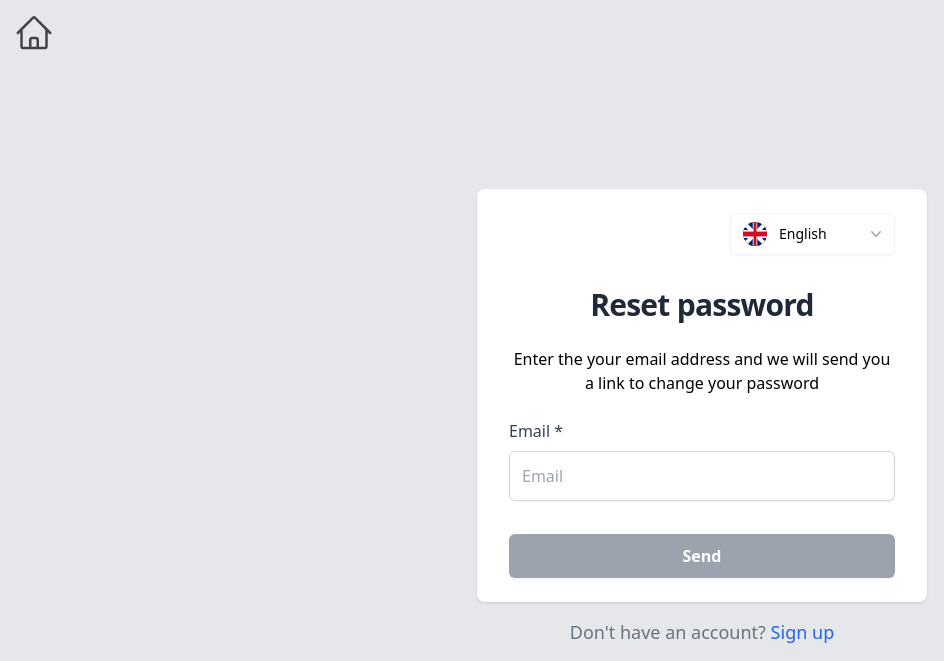
Test: Request password reset page › Should change language after select different language from the language selector
Step 1. Click the button with test id "language-selector" → coordinates (813, 234), box x1=730 y1=213 x2=895 y2=255
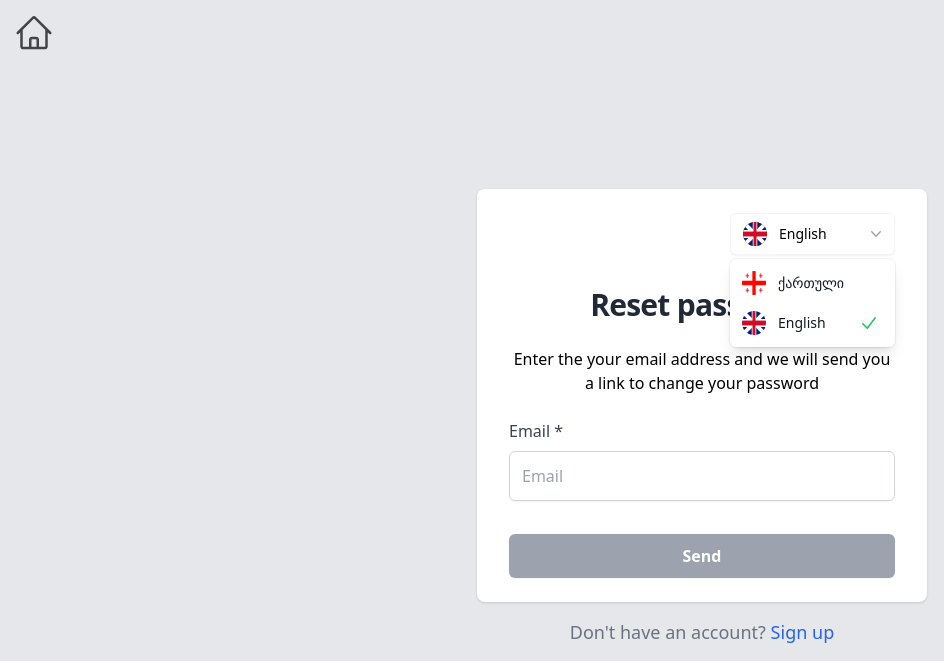
Step 2. Click the option with test id "ka" → coordinates (793, 283), box x1=742 y1=271 x2=844 y2=295
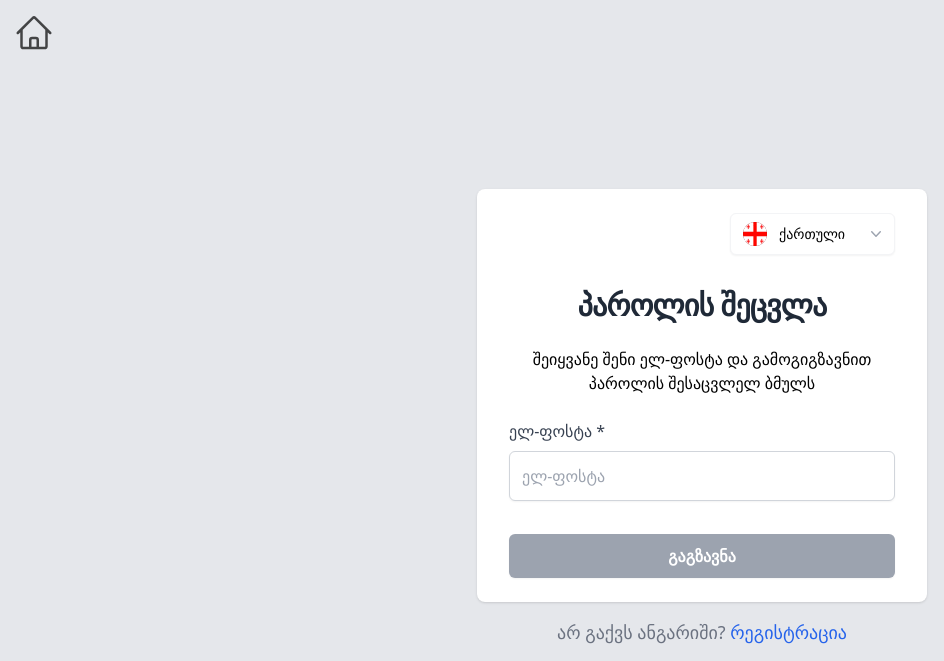
Check: the label with test id "email-label" shows "ელ-ფოსტა", box x1=509 y1=420 x2=605 y2=442
Check: the element with test id "auth-question" reads "არ გაქვს ანგარიში? რეგისტრაცია", box x1=557 y1=620 x2=847 y2=644
Check: the heading with test id "auth-page-title" reads "პაროლის შეცვლა", box x1=578 y1=284 x2=827 y2=325
